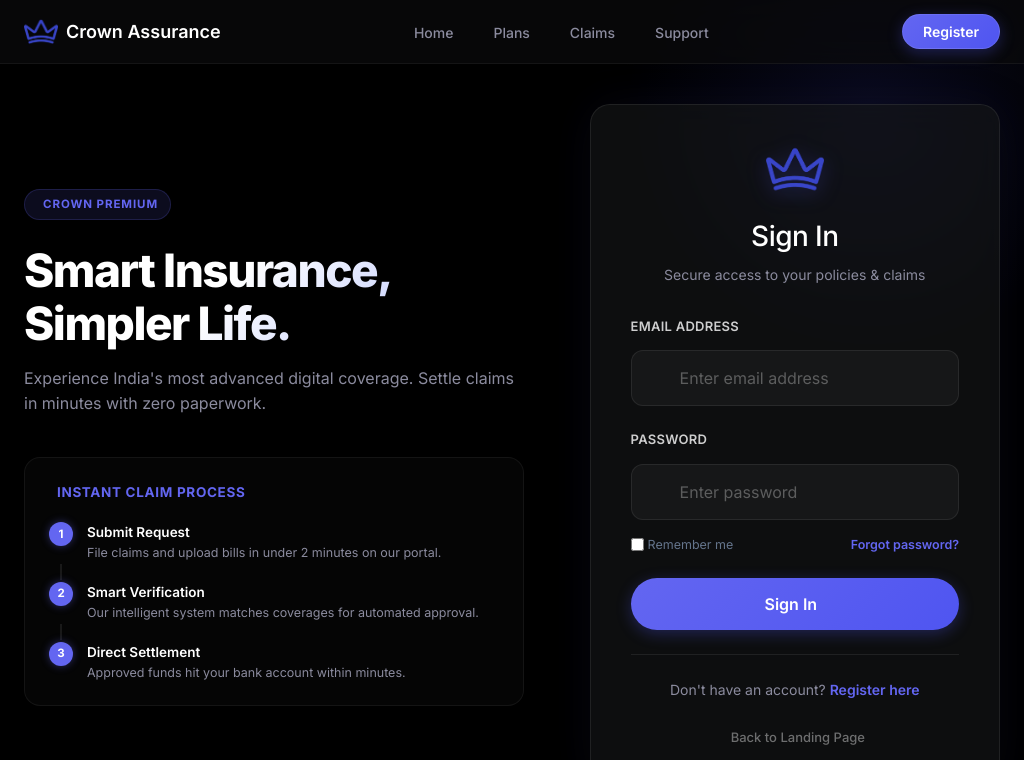
Scenario: Login Page › shows validation error for empty email
In the password field with placeholder "Enter password": (795, 492) [631,464,959,520], type "ValidPass@123"
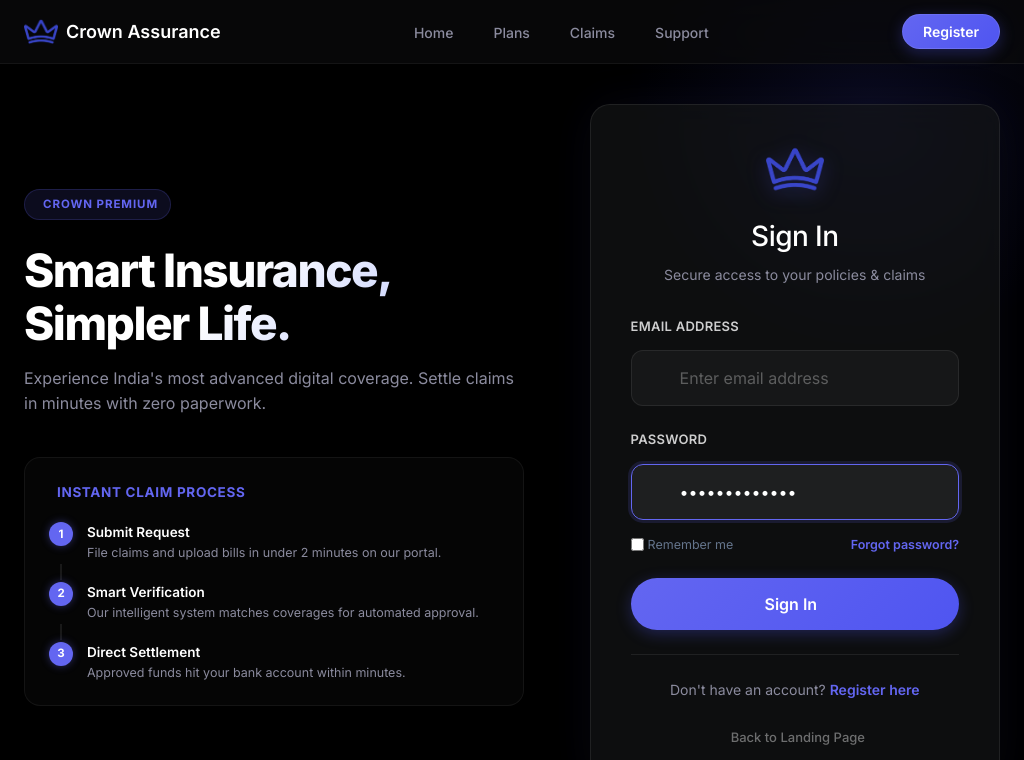
Click the button "Sign In": click(795, 604) [631,578,959,630]
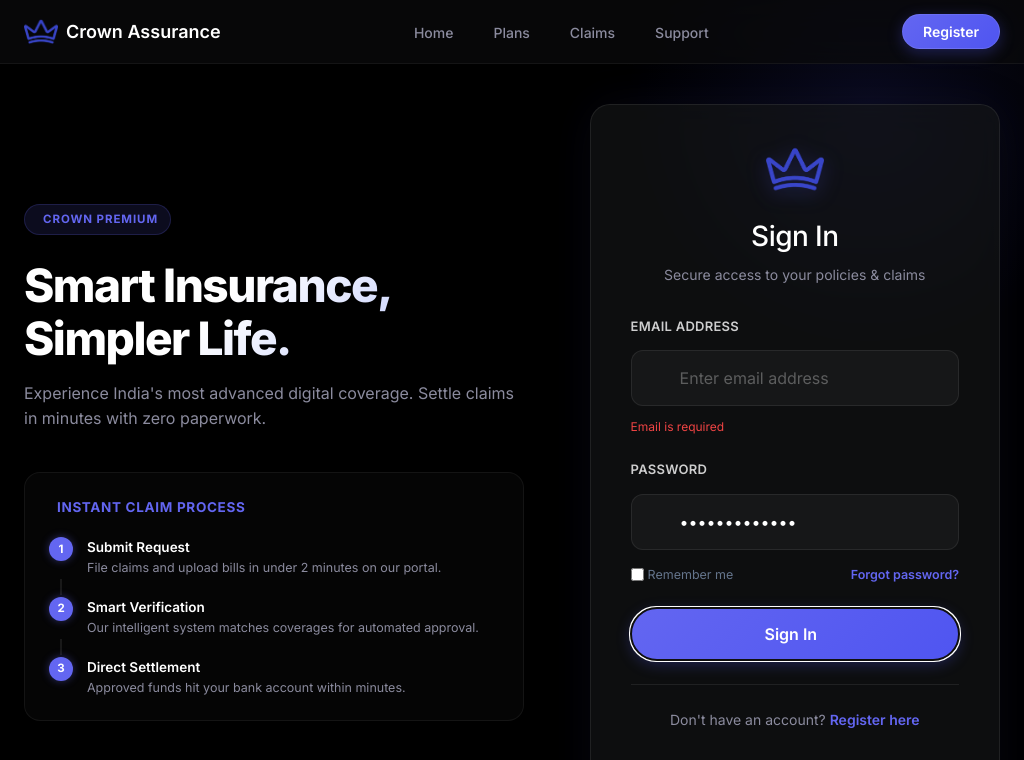
Expected: the text "Email is required" is shown, [631,419,724,434]
